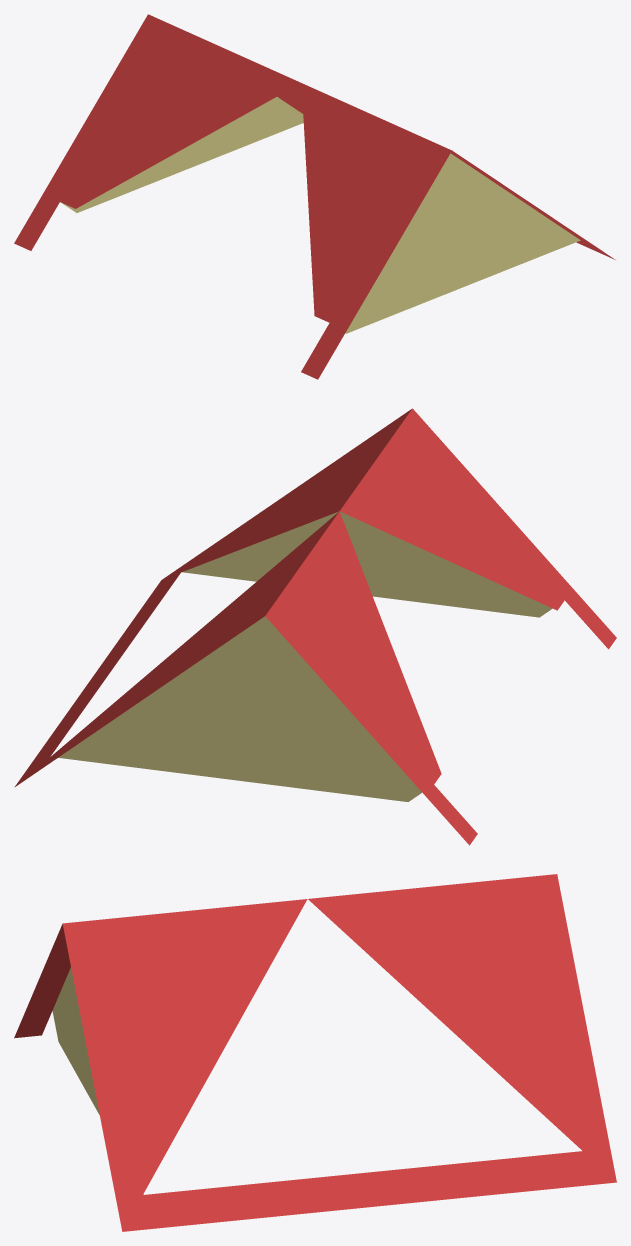
3 renders of one model, top to bottom at view 1: azimuth 30°, elevation 25°; view 2: azimuth 150°, elevation 25°; view 3: azimuth 270°, elevation 25°, orthographic. The views are drawn at different scales.
Size of the model in its own units: 15 by 15.72 by 5.8.
